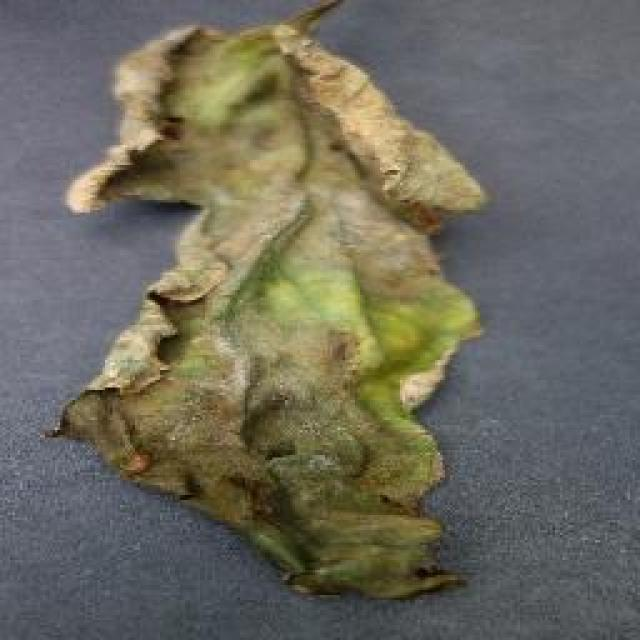Tomato Late Blight: (68, 37, 407, 590)
